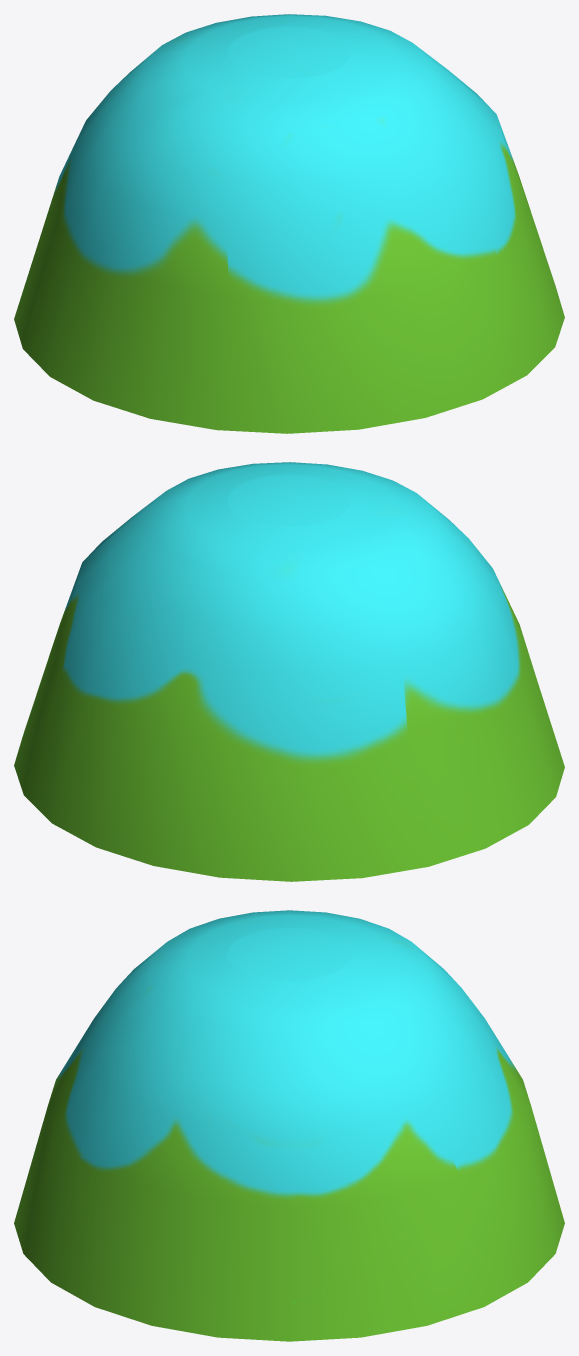
File: MedMountainT.fbx
The picture shows the model from 3 angles, top to bottom: view 1: azimuth 30°, elevation 25°; view 2: azimuth 150°, elevation 25°; view 3: azimuth 270°, elevation 25°; orthographic projection.
Parts seen in each view (by area): view 1: Mid_mountain; view 2: Mid_mountain; view 3: Mid_mountain.
Boxes of the visible parts, <box> form: Mid_mountain: <box>14,14,564,433</box>; Mid_mountain: <box>14,462,564,881</box>; Mid_mountain: <box>14,910,564,1341</box>.
Bounding box in the file's own units: 137 × 74.3 × 134.
1 material, 1 textured.
